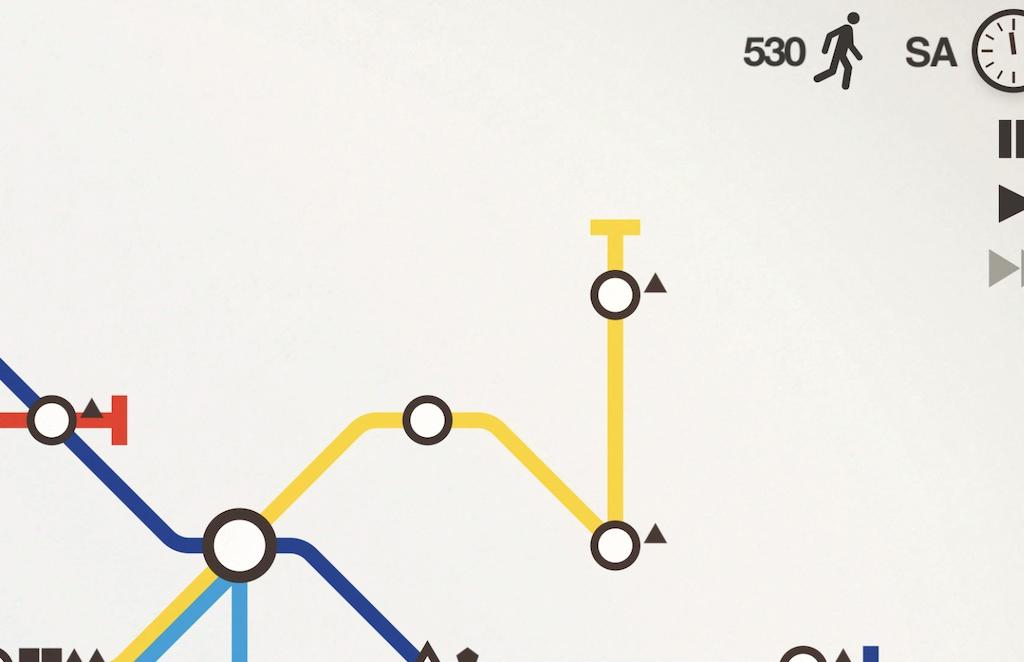connected_station: (187, 490, 291, 589), (584, 498, 643, 579), (5, 387, 80, 450), (400, 388, 459, 453), (583, 268, 640, 321), (392, 638, 461, 662), (772, 635, 830, 662)
fast_forward: (979, 243, 1024, 298)
line_endpoint: (556, 203, 653, 253), (96, 381, 151, 457), (843, 611, 907, 662)
pause: (971, 111, 1024, 162)
play: (972, 170, 1024, 227)
